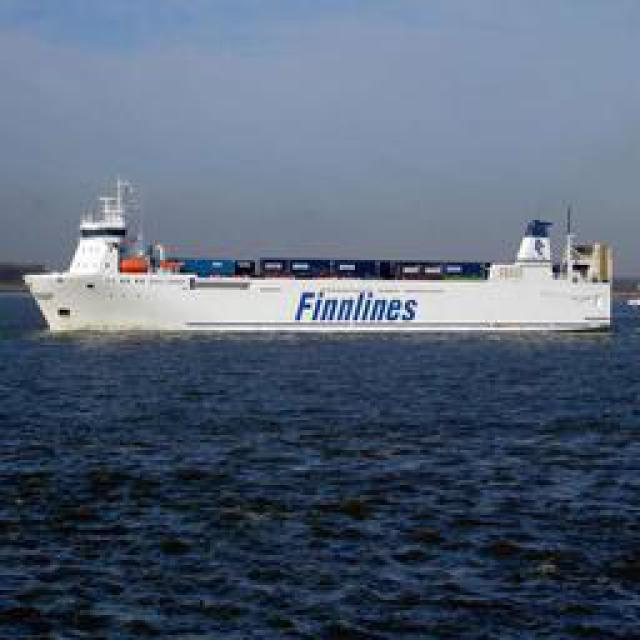Ship: (35, 190, 618, 340)
